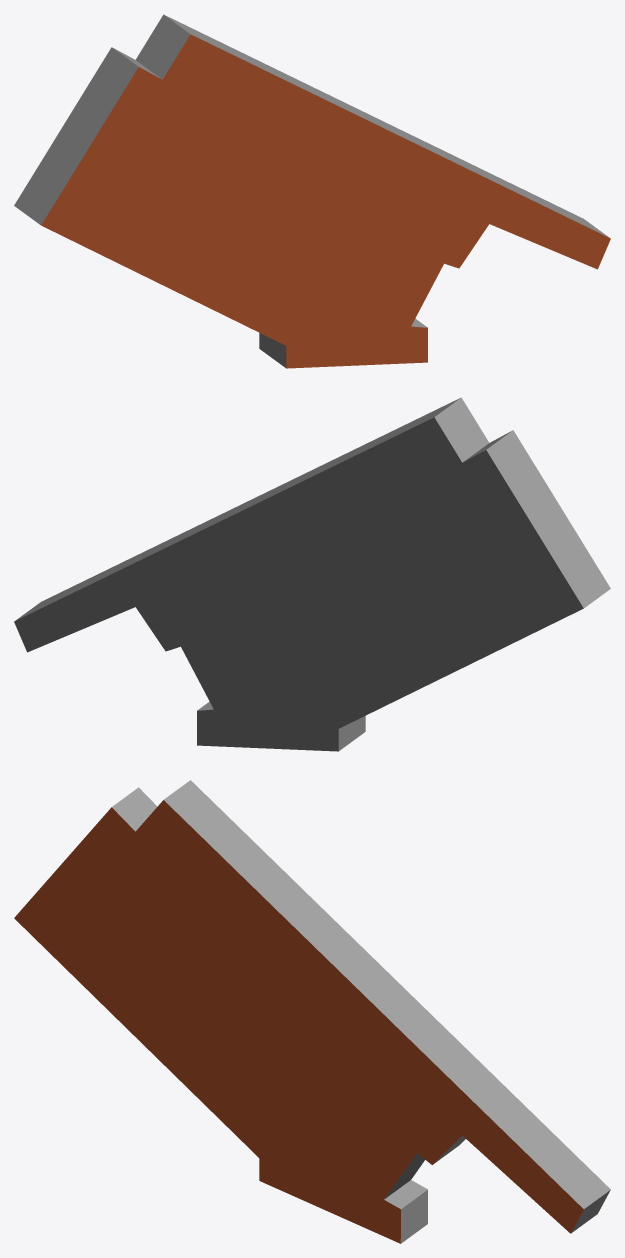
File: construction_6439_assumed_A_Casa_h6m.obj
The picture shows the model from 3 angles, top to bottom: view 1: azimuth 30°, elevation 25°; view 2: azimuth 150°, elevation 25°; view 3: azimuth 330°, elevation 25°; orthographic projection.
Visible parts, largest first — view 1: construction_6439_assumed_A_Casa; view 2: construction_6439_assumed_A_Casa; view 3: construction_6439_assumed_A_Casa.
Part boxes in pixels (x1,y1,x2,y2): construction_6439_assumed_A_Casa: (14, 14, 610, 368); construction_6439_assumed_A_Casa: (14, 397, 610, 751); construction_6439_assumed_A_Casa: (14, 780, 610, 1243).
Bounding box in the file's own units: 72.83 × 47.17 × 6.
